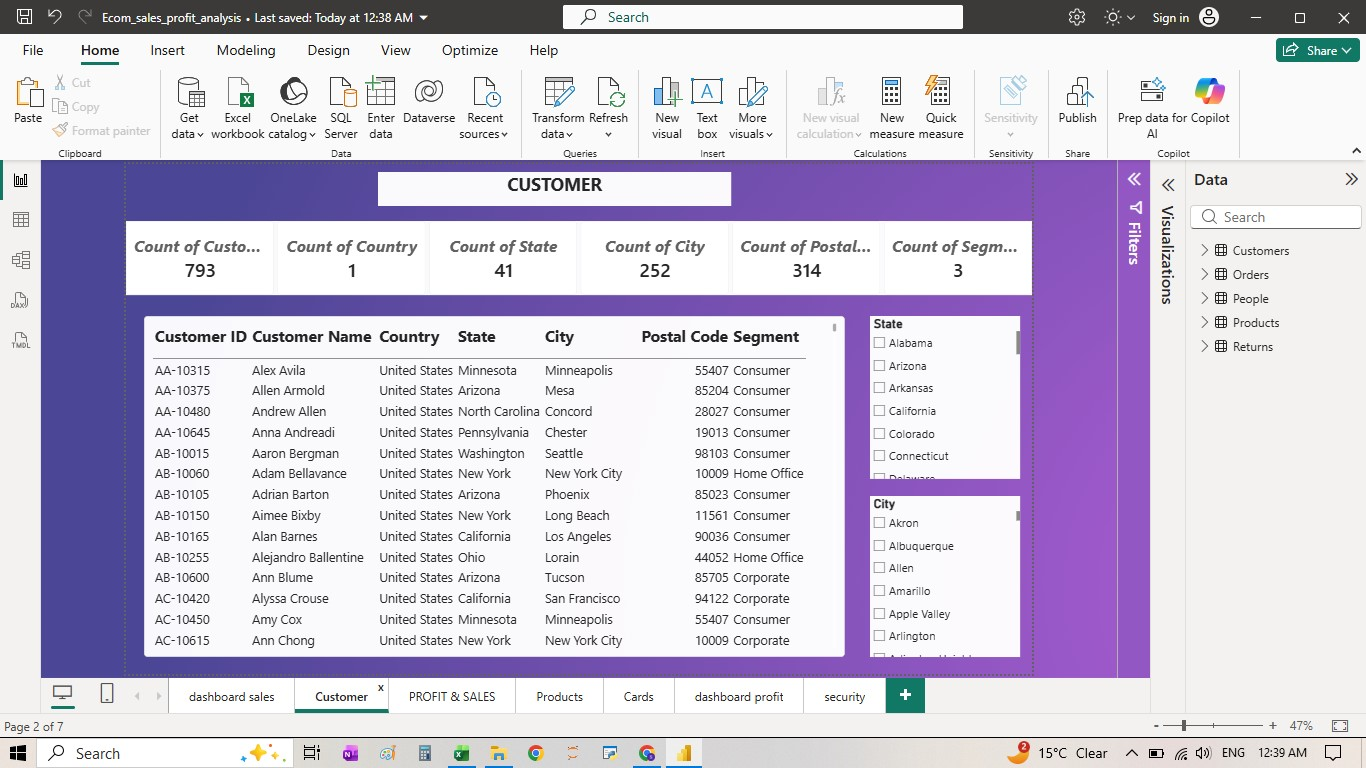

What the dashboard file says about the page in this screenshot:
{"tool":"powerbi","page":{"name":"Customer","canvas":[1920,1080],"ordinal":1},"visuals":[{"type":"textbox","box":[533.6,16.9,747.5,72],"z":0},{"type":"cardVisual","fields":{"Data":["Count(Orders.Customer ID)","Count(Customers.Country)","Count(Customers.State)","Count(Customers.City)","Count(Customers.Postal Code)","Count(Customers.Segment)"]},"box":[0,120.7,1920.7,156.7],"z":1000},{"type":"tableEx","fields":{"Values":["Orders.Customer ID","Customers.Customer Name","Customers.Country","Customers.State","Customers.City","Customers.Postal Code","Customers.Segment"]},"box":[38.1,321.9,1484.5,722.1],"z":2000},{"type":"slicer","fields":{"Values":["Customers.State"]},"box":[1575.5,321.9,317.6,345.2],"z":3000},{"type":"slicer","fields":{"Values":["Customers.City"]},"box":[1575.5,703.1,317.6,340.9],"z":4000}]}

Visuals, with their boxes on the page's 1920x1080 design canvas (x1, y1, x2, y2). These are canvas units, not pixel positions in the 1366x768 screenshot, which may show the page scaled, cropped or inside an application window:
textbox: [left=534, top=17, right=1281, bottom=89]
cardVisual - Count(Orders.Customer ID) x Count(Customers.Country): [left=0, top=121, right=1921, bottom=277]
tableEx - Orders.Customer ID x Customers.Customer Name: [left=38, top=322, right=1523, bottom=1044]
slicer - Customers.State: [left=1576, top=322, right=1893, bottom=667]
slicer - Customers.City: [left=1576, top=703, right=1893, bottom=1044]
